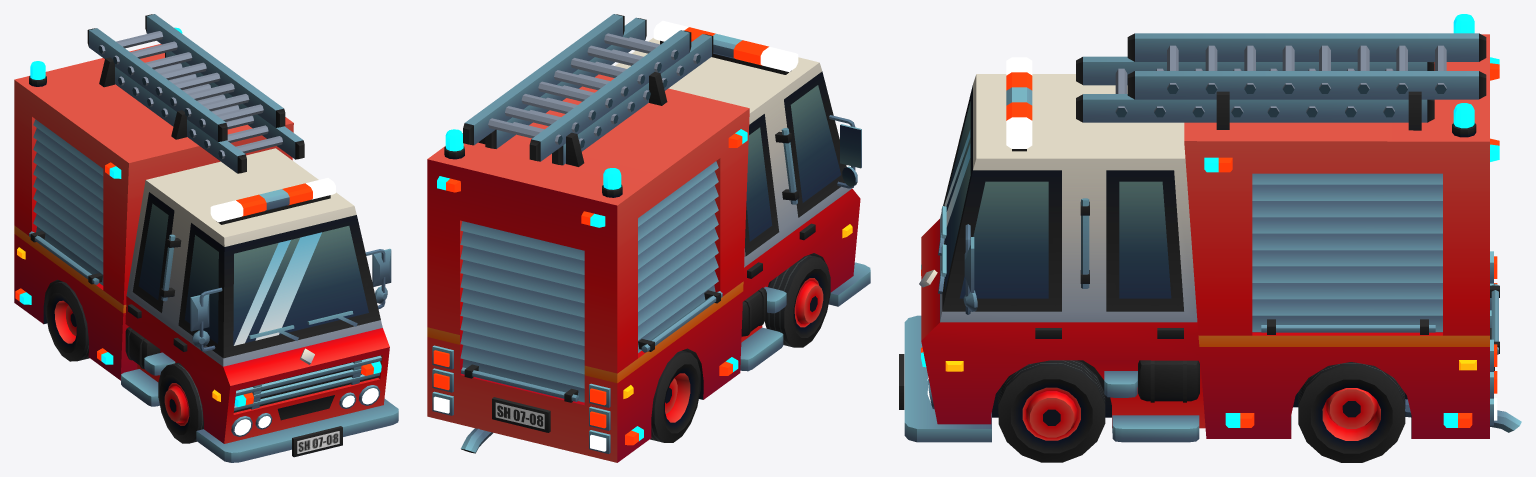
File: Fire_truck.fbx
3 views of the same model, side by side, from view 1: azimuth 30°, elevation 25°; view 2: azimuth 150°, elevation 25°; view 3: azimuth 270°, elevation 25° (orthographic). The views are drawn at different scales.
Parts seen in each view (by area): view 1: Fire_truck; view 2: Fire_truck; view 3: Fire_truck.
Part boxes in pixels (x1=…): Fire_truck: x1=14, y1=14, x2=398, y2=462; Fire_truck: x1=427, y1=14, x2=870, y2=462; Fire_truck: x1=899, y1=14, x2=1521, y2=462.
Size of the model in its own units: 2.42 by 3.19 by 4.9.
1 material, 1 textured.
